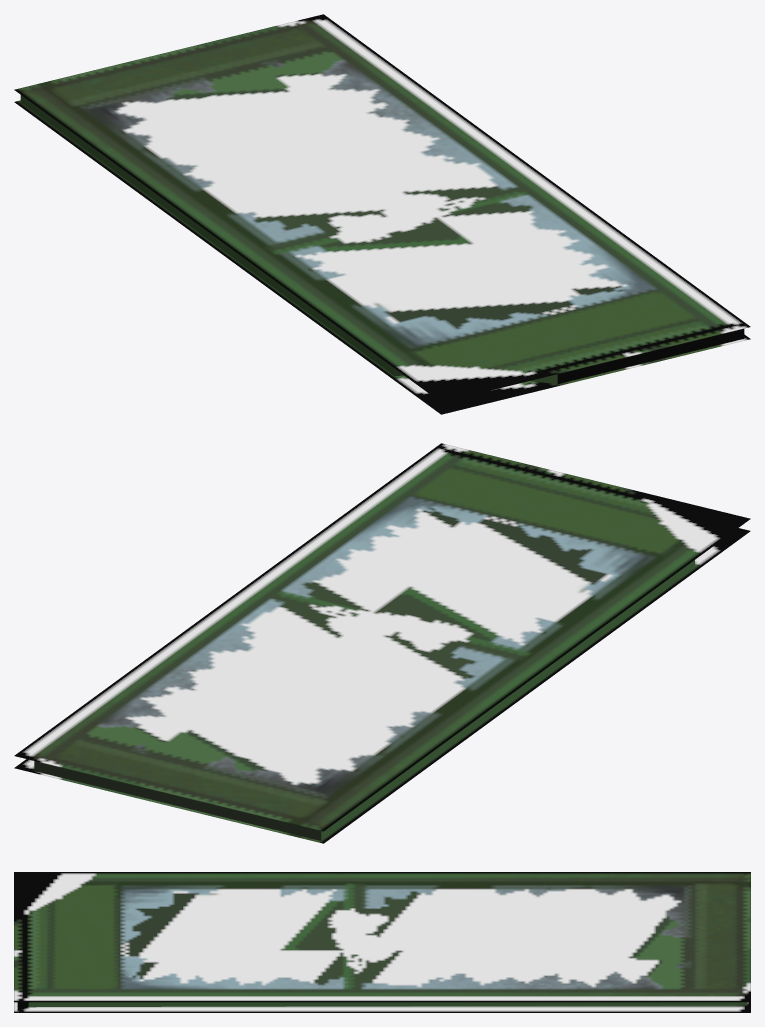
File: pz_native_location_shop_greenes_01_71_frame.obj
3 views of the same model, one above another, from view 1: azimuth 30°, elevation 25°; view 2: azimuth 150°, elevation 25°; view 3: azimuth 270°, elevation 25° (orthographic). The views are drawn at different scales.
Visible parts, largest first — view 1: pz_native_location_shop_greenes_01_71_frame; view 2: pz_native_location_shop_greenes_01_71_frame; view 3: pz_native_location_shop_greenes_01_71_frame.
Boxes of the visible parts, <box> form: pz_native_location_shop_greenes_01_71_frame: <box>14,14,750,414</box>; pz_native_location_shop_greenes_01_71_frame: <box>14,443,750,843</box>; pz_native_location_shop_greenes_01_71_frame: <box>14,872,750,1012</box>.
Bounding box in the file's own units: 1.06 × 0.04 × 2.54.
1 material, 1 textured.
